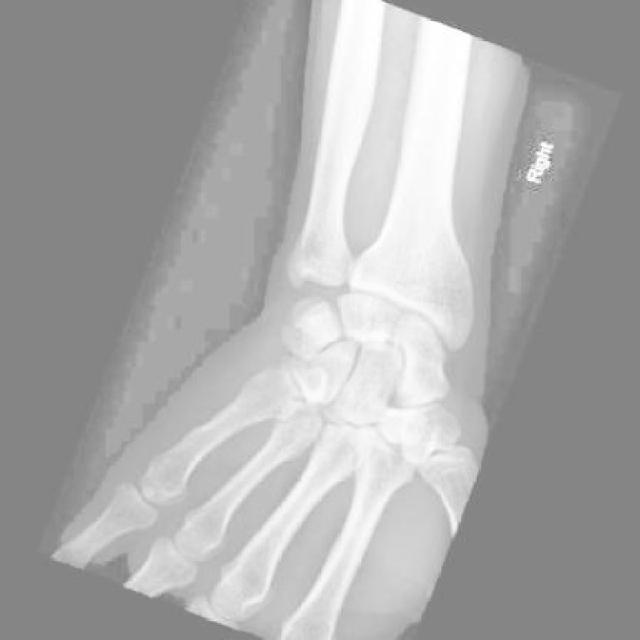Fracture: (288, 297, 348, 357)
